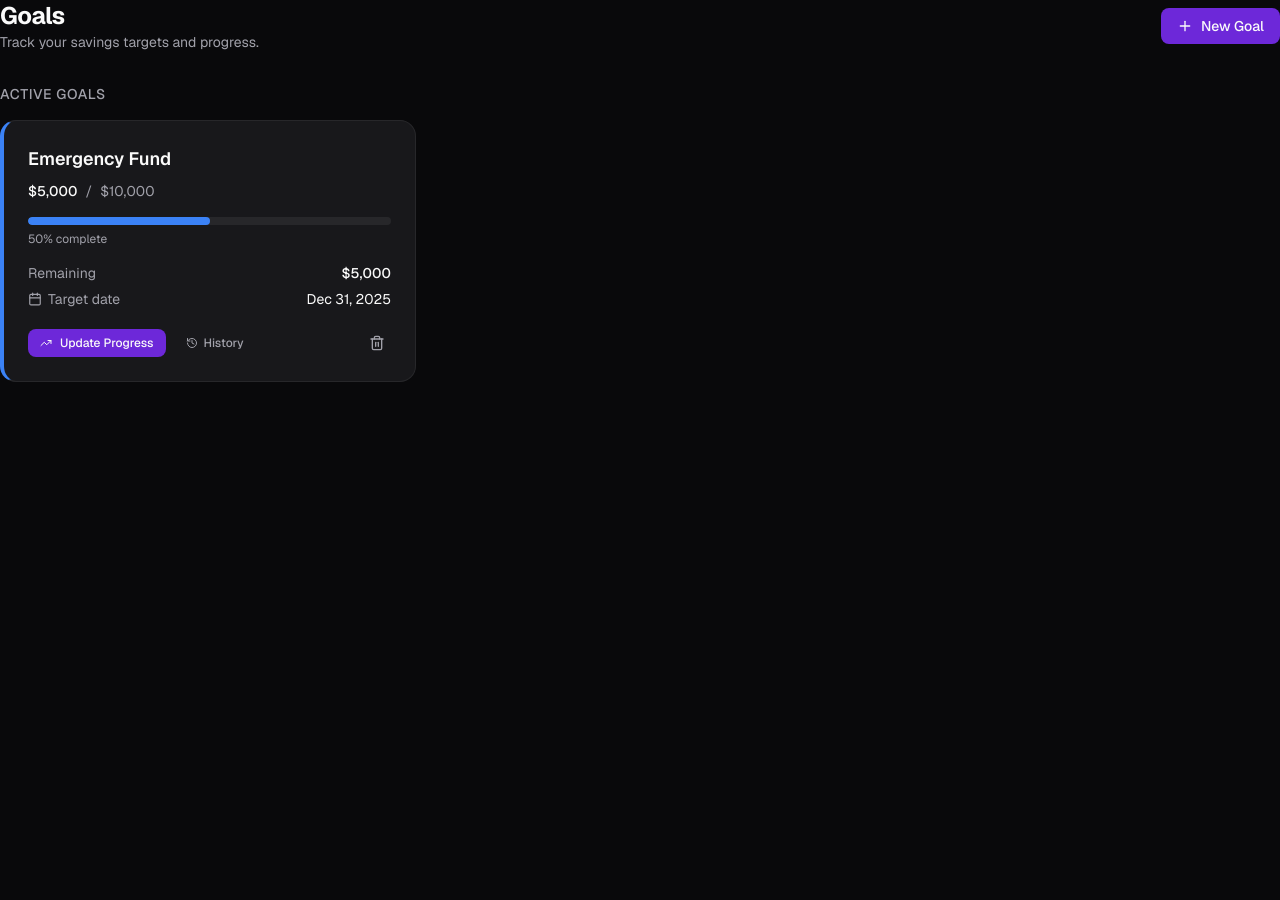
Scenario: GoalsPage › delete opens confirm dialog
This screenshot has width=1280, height=900.
Expected: the heading "Emergency Fund" is shown, [28, 145, 171, 173]
Step 1. Click the button titled "Delete goal" → (377, 343), box [363, 329, 391, 357]
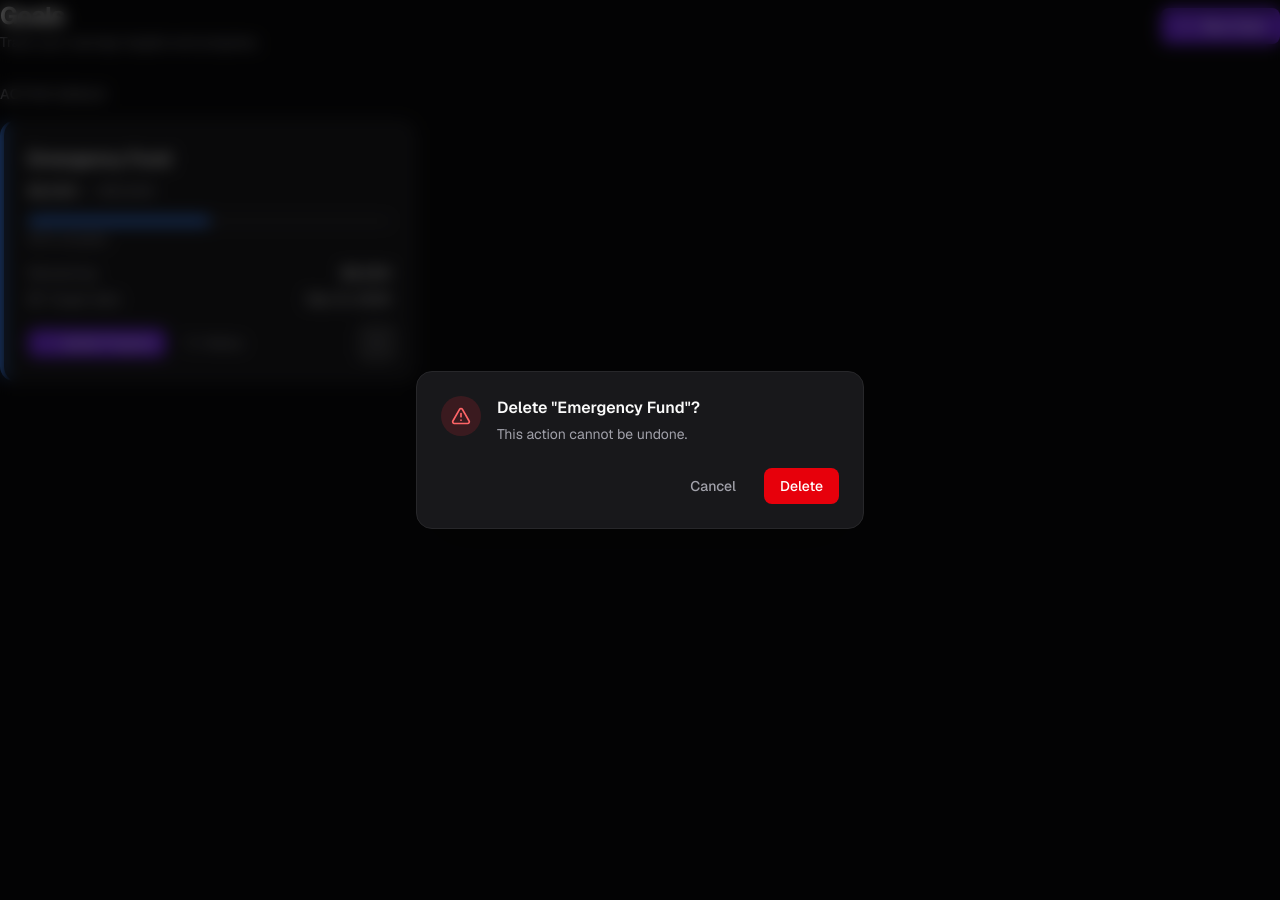
Expected: the dialog is shown, [416, 371, 864, 529]
